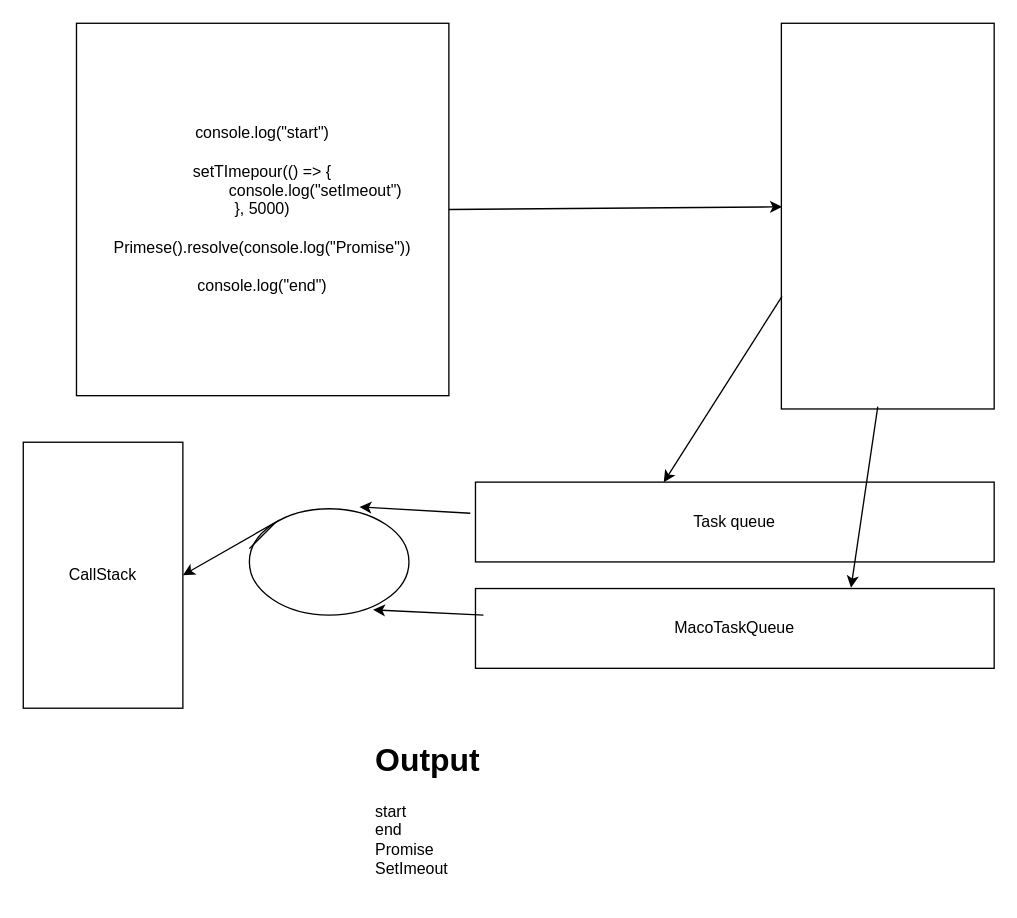
This 1017x918 diagram has some shape labels left out. Each missing label, with the centre of its shape:
event loop: point (328, 561)
WebAPI: setImeout() waits for 5000ms then puts the callback into the taksqueue: point (887, 215)
